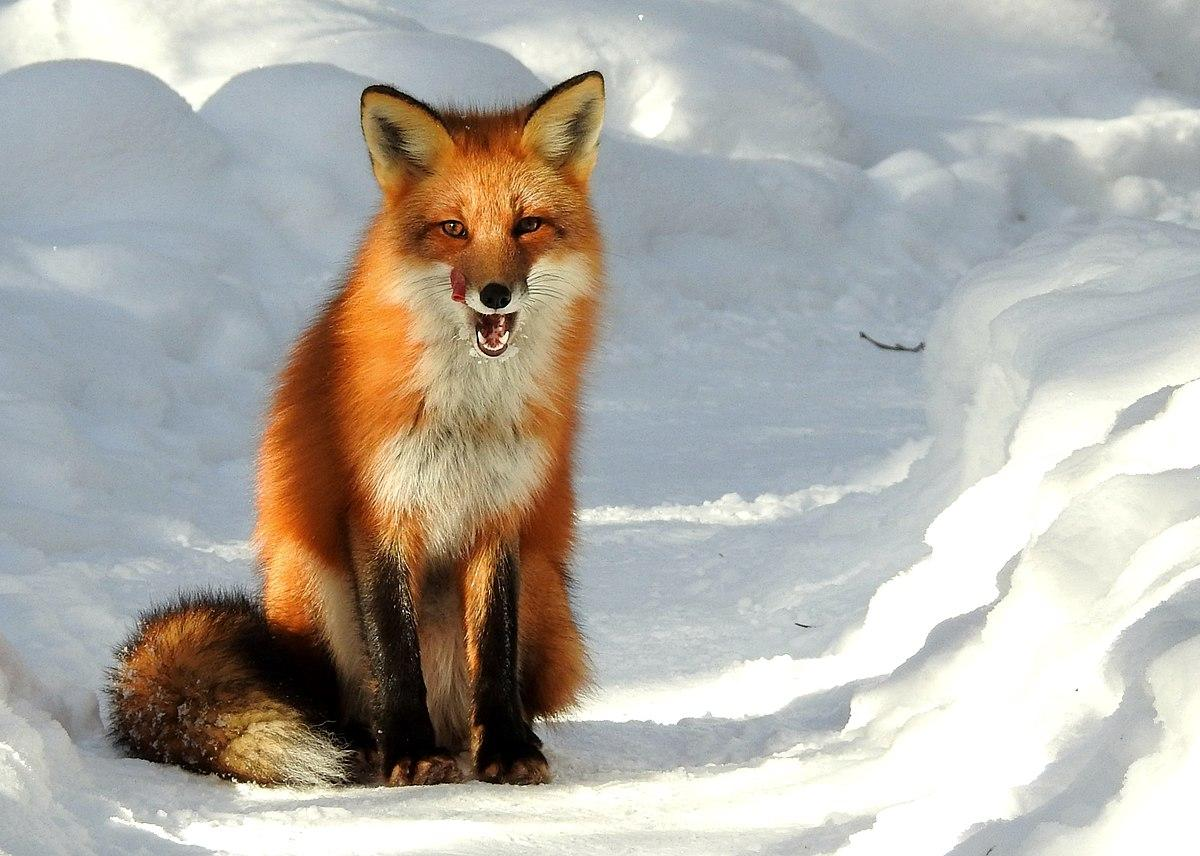fox: (121, 69, 619, 784)
